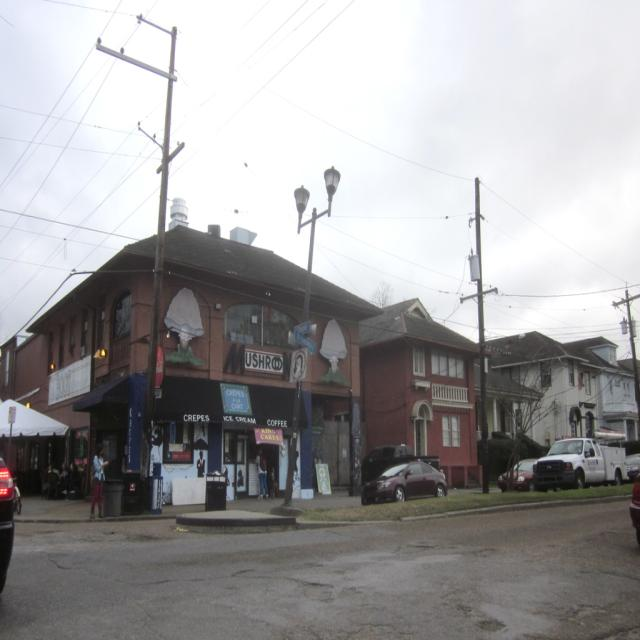car: (358, 450, 451, 506), (495, 455, 535, 488)
